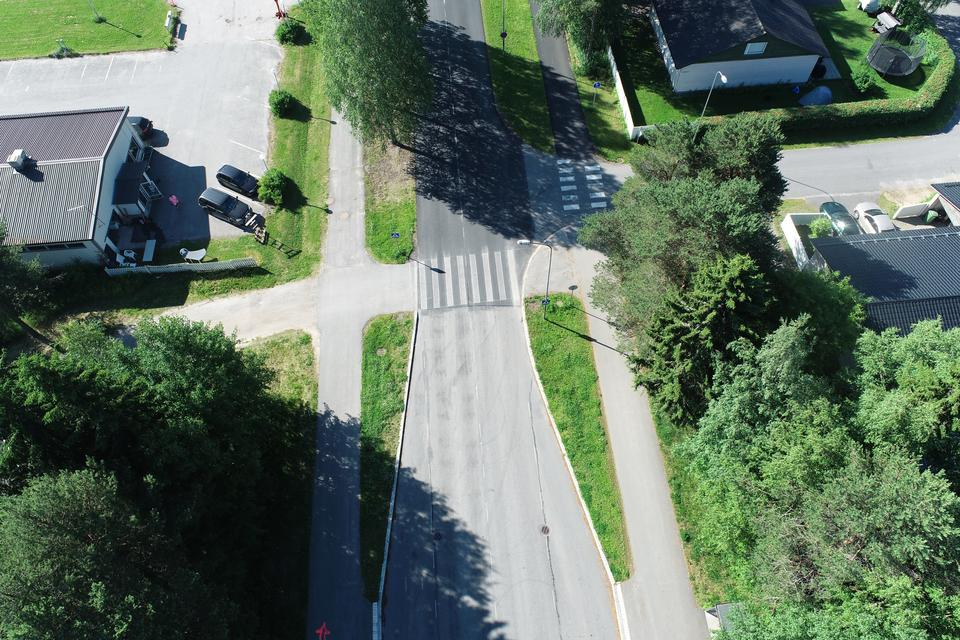intersection: (304, 135, 648, 328)
